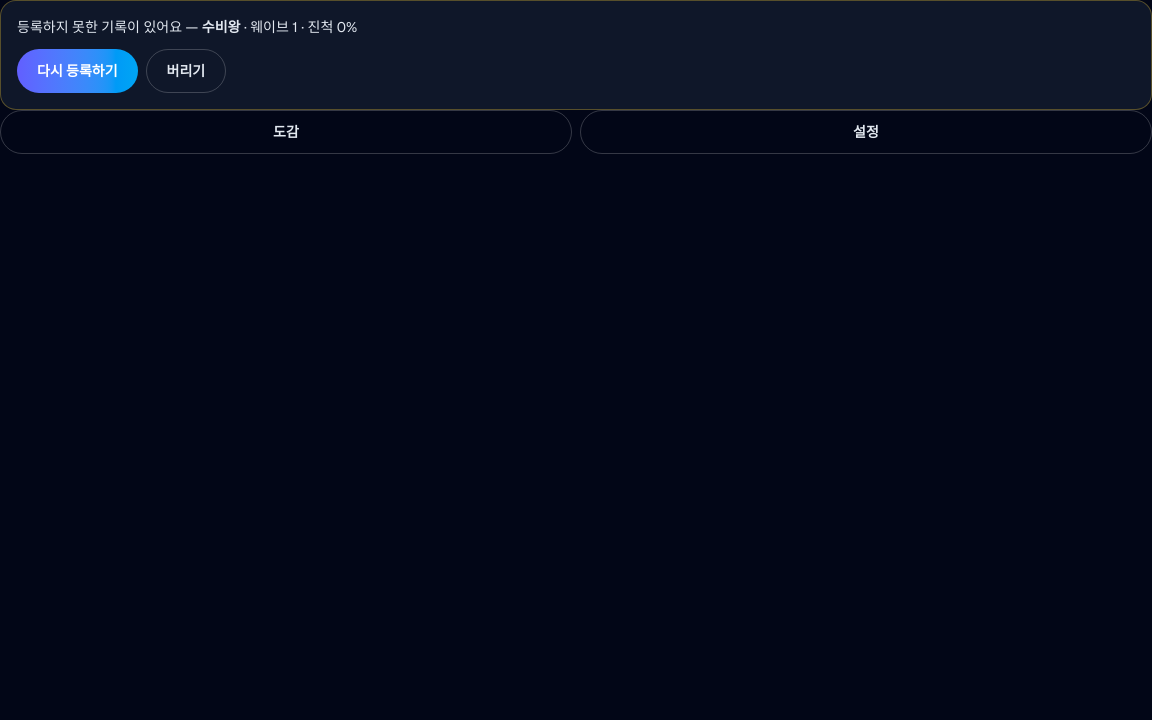
Test case: 도감·허브 보조 동작 › 허브 — 등록하지 않을 기록은 확인 뒤 버린다(취소면 그대로) (games-polish P5)
Click the button with test id "defense-pending-discard" at (186, 71), box [146,49,226,93]
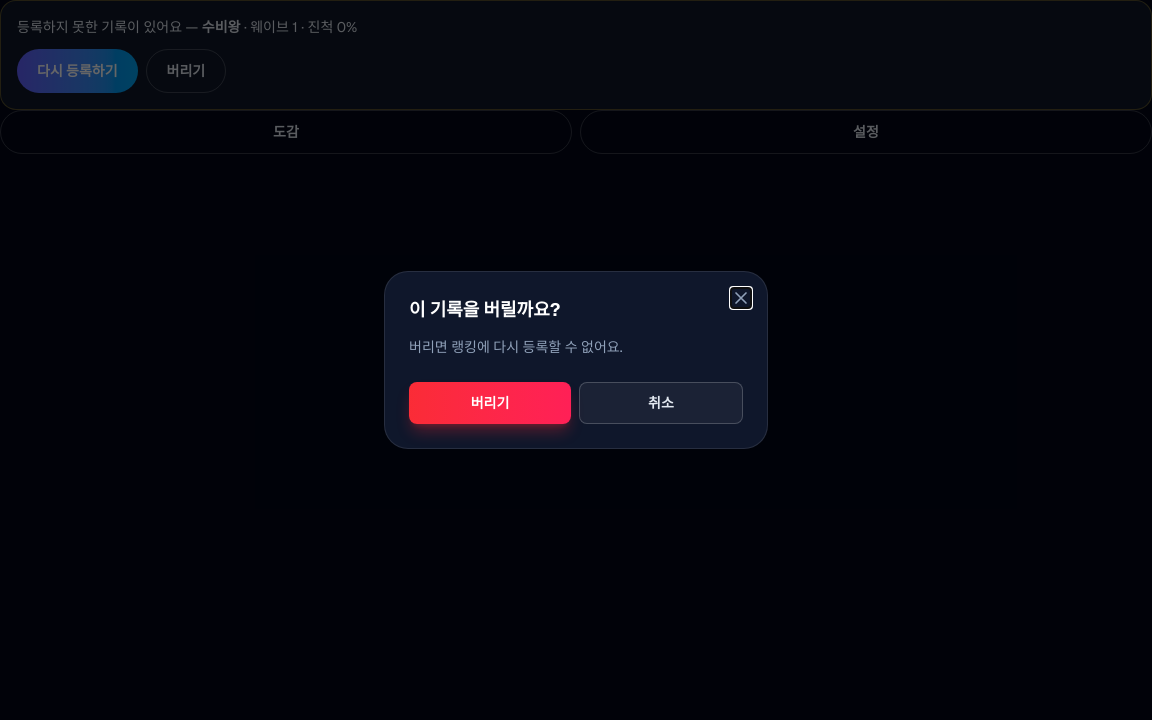
Click the button "취소" at (661, 403), box [579,382,743,424]
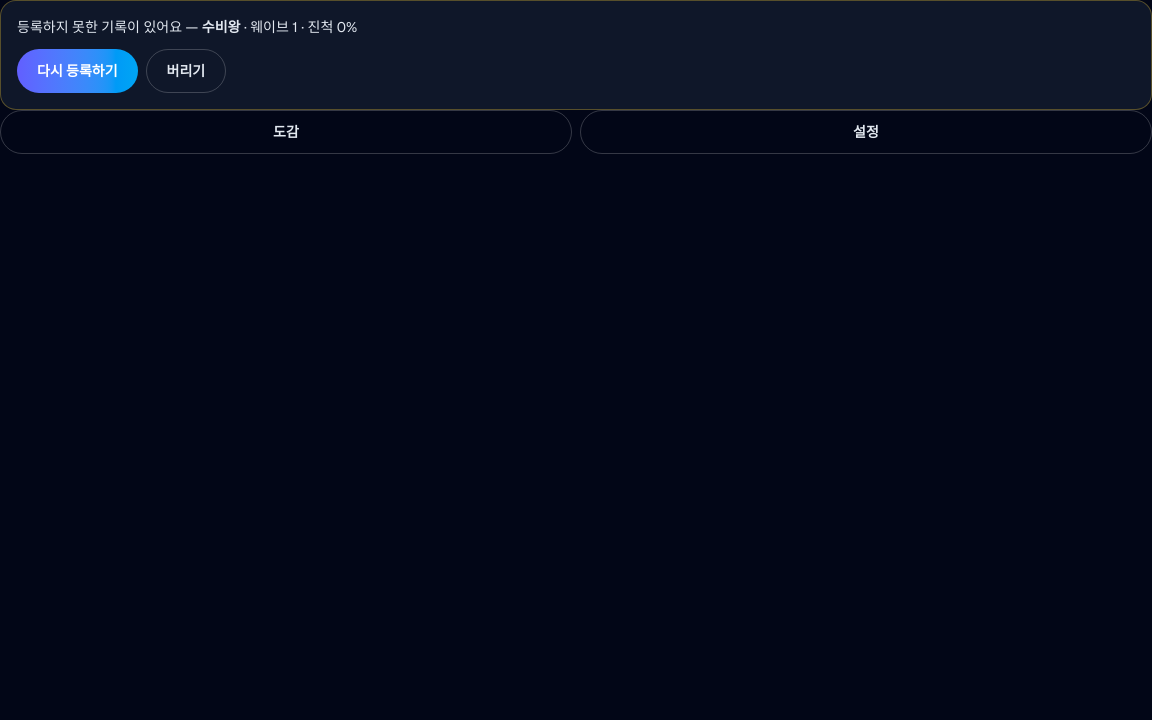
Click the button with test id "defense-pending-discard" at (186, 71), box [146,49,226,93]
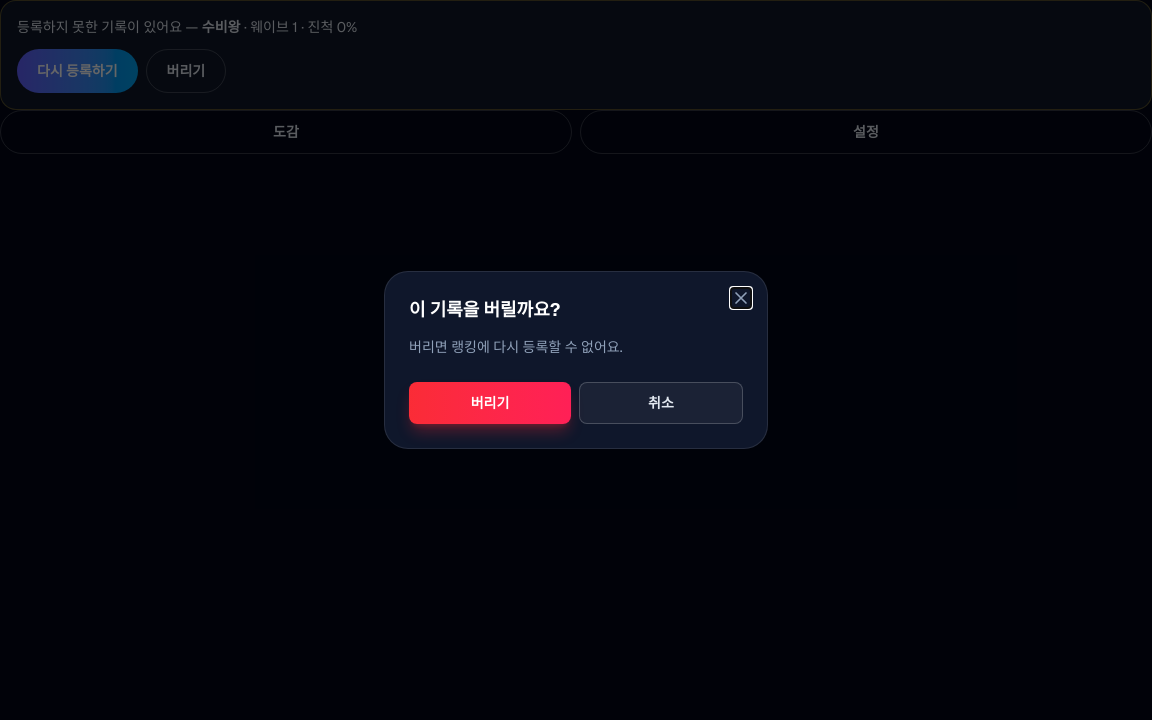
Click the button "버리기" below "버리면 랭킹에 다시 등록할 수 없어요." at (490, 403), box [409,382,571,424]
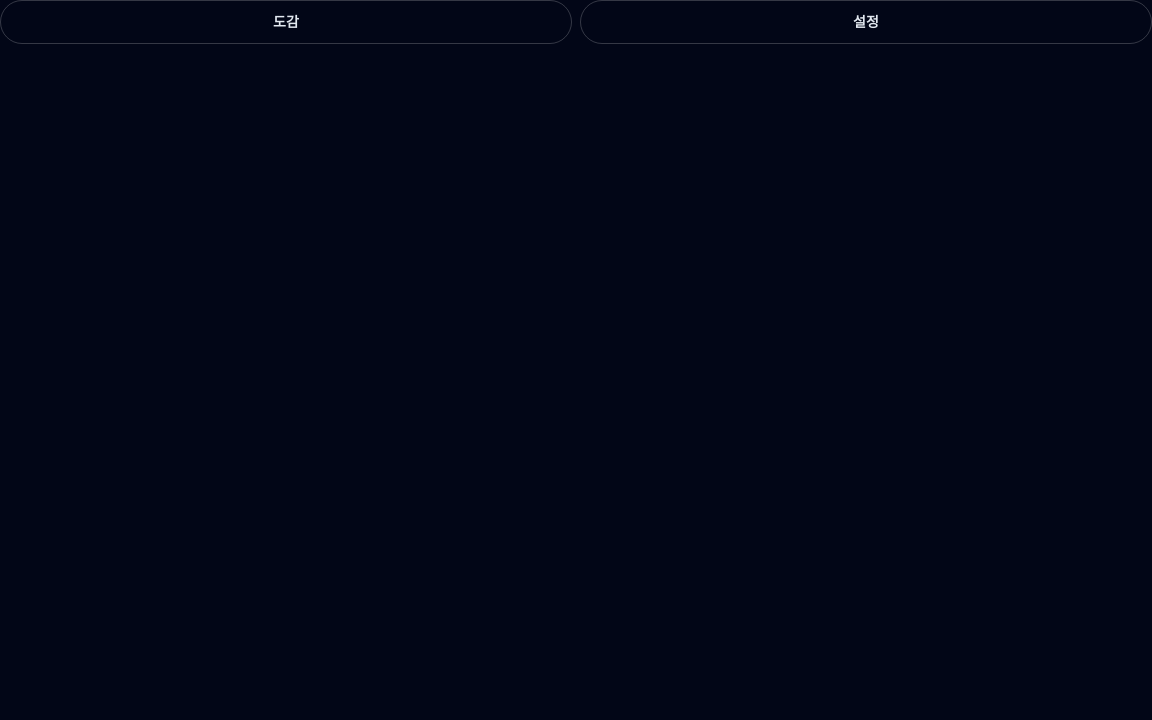
Expected: the element with test id "defense-pending" is gone
